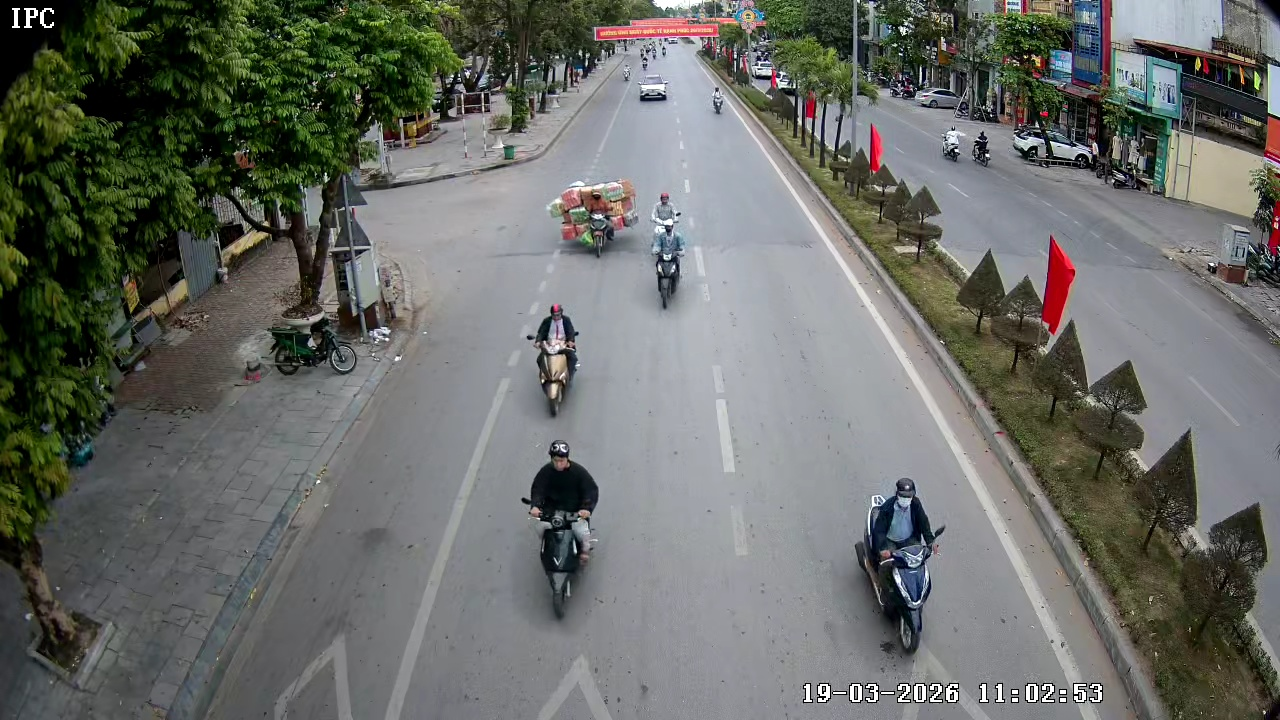car: (638, 72, 672, 104)
exception: (652, 189, 686, 224)
motorbike: (854, 476, 946, 654), (520, 439, 601, 619), (257, 305, 371, 380), (524, 303, 583, 417), (651, 216, 688, 314), (581, 182, 617, 258), (705, 83, 733, 116), (620, 62, 634, 82), (642, 56, 650, 71)
